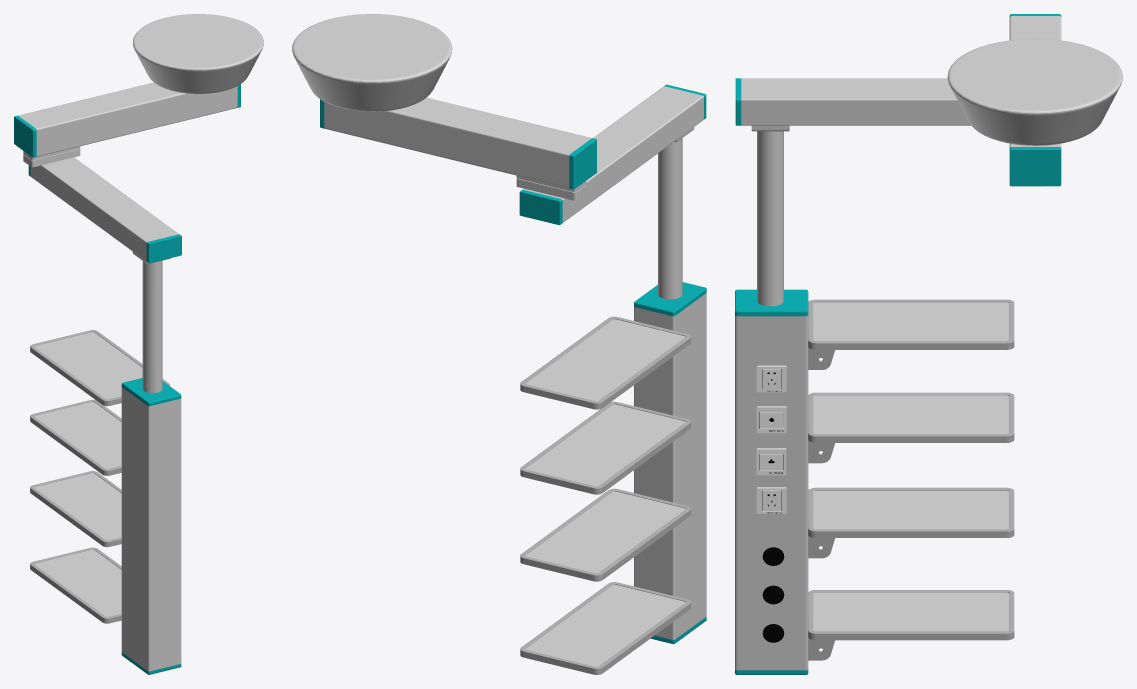
The model's file is pendant.glb.
The picture shows the model from 3 angles, left to right: view 1: azimuth 30°, elevation 25°; view 2: azimuth 150°, elevation 25°; view 3: azimuth 270°, elevation 25°; orthographic projection. The views are drawn at different scales.
Parts seen in each view (by area): view 1: Obj3d66-594498-110-997_40, Obj3d66-594498-106-439_36, Obj3d66-594498-103-451_33, Obj3d66-594498-112-92_42, Obj3d66-594498-117-333_47, Obj3d66-594498-122-527_52, Obj3d66-594498-124-813_54, Obj3d66-594498-119-488_49, Obj3d66-594498-108-827_38, Obj3d66-594498-116-227_46, Obj3d66-594498-126-452_56, Obj3d66-594498-121-157_51 (+5 smaller); view 2: Obj3d66-594498-110-997_40, Obj3d66-594498-106-439_36, Obj3d66-594498-103-451_33, Obj3d66-594498-112-92_42, Obj3d66-594498-119-488_49, Obj3d66-594498-122-527_52, Obj3d66-594498-124-813_54, Obj3d66-594498-117-333_47, Obj3d66-594498-108-827_38, Obj3d66-594498-116-227_46, Obj3d66-594498-121-157_51, Obj3d66-594498-126-452_56 (+5 smaller); view 3: Obj3d66-594498-110-997_40, Obj3d66-594498-106-439_36, Obj3d66-594498-112-92_42, Obj3d66-594498-124-813_54, Obj3d66-594498-122-527_52, Obj3d66-594498-117-333_47, Obj3d66-594498-119-488_49, Obj3d66-594498-108-827_38, Obj3d66-594498-116-227_46, Obj3d66-594498-118-566_48, Obj3d66-594498-126-452_56, Obj3d66-594498-121-157_51 (+7 smaller).
Boxes of the visible parts, left/top/right/bottom form: Obj3d66-594498-110-997_40: left=121, top=387, right=181, bottom=671; Obj3d66-594498-106-439_36: left=133, top=14, right=263, bottom=94; Obj3d66-594498-103-451_33: left=18, top=82, right=237, bottom=156; Obj3d66-594498-112-92_42: left=30, top=157, right=178, bottom=261; Obj3d66-594498-117-333_47: left=34, top=332, right=142, bottom=399; Obj3d66-594498-122-527_52: left=34, top=473, right=121, bottom=540; Obj3d66-594498-124-813_54: left=34, top=549, right=121, bottom=616; Obj3d66-594498-119-488_49: left=34, top=402, right=121, bottom=469; Obj3d66-594498-108-827_38: left=142, top=260, right=162, bottom=393; Obj3d66-594498-116-227_46: left=30, top=330, right=169, bottom=406; Obj3d66-594498-126-452_56: left=30, top=547, right=121, bottom=623; Obj3d66-594498-121-157_51: left=30, top=471, right=121, bottom=547; Obj3d66-594498-110-997_40: left=634, top=293, right=706, bottom=639; Obj3d66-594498-106-439_36: left=292, top=14, right=452, bottom=111; Obj3d66-594498-103-451_33: left=324, top=97, right=591, bottom=188; Obj3d66-594498-112-92_42: left=523, top=86, right=703, bottom=222; Obj3d66-594498-119-488_49: left=525, top=404, right=685, bottom=486; Obj3d66-594498-122-527_52: left=525, top=491, right=685, bottom=573; Obj3d66-594498-124-813_54: left=525, top=584, right=685, bottom=666; Obj3d66-594498-117-333_47: left=525, top=319, right=685, bottom=401; Obj3d66-594498-108-827_38: left=658, top=138, right=682, bottom=299; Obj3d66-594498-116-227_46: left=520, top=316, right=690, bottom=409; Obj3d66-594498-121-157_51: left=520, top=488, right=690, bottom=581; Obj3d66-594498-126-452_56: left=520, top=582, right=690, bottom=674; Obj3d66-594498-110-997_40: left=735, top=316, right=808, bottom=670; Obj3d66-594498-106-439_36: left=947, top=38, right=1122, bottom=145; Obj3d66-594498-112-92_42: left=741, top=78, right=970, bottom=125; Obj3d66-594498-124-813_54: left=813, top=592, right=1009, bottom=631; Obj3d66-594498-122-527_52: left=813, top=490, right=1009, bottom=529; Obj3d66-594498-117-333_47: left=813, top=302, right=1009, bottom=340; Obj3d66-594498-119-488_49: left=813, top=395, right=1009, bottom=433; Obj3d66-594498-108-827_38: left=757, top=131, right=783, bottom=306; Obj3d66-594498-116-227_46: left=808, top=299, right=1014, bottom=349; Obj3d66-594498-118-566_48: left=808, top=392, right=1014, bottom=442; Obj3d66-594498-126-452_56: left=808, top=590, right=1014, bottom=640; Obj3d66-594498-121-157_51: left=808, top=487, right=1014, bottom=537.
Size of the model in its own units: 0.8658 by 1.8 by 0.9268.
